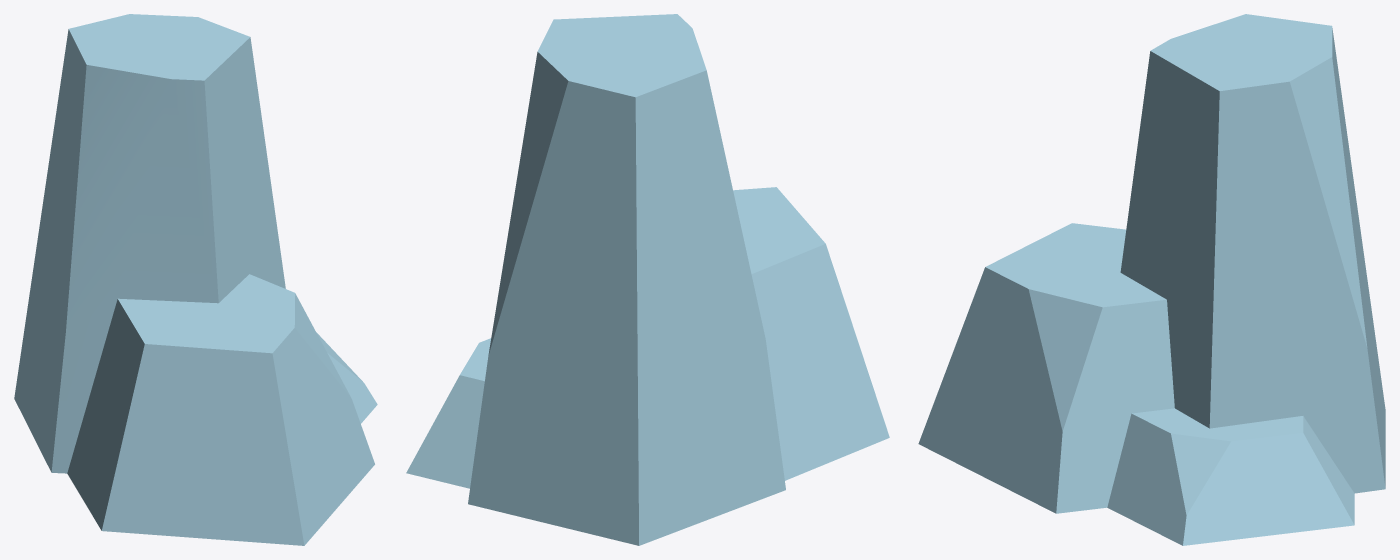
File: rockSmall.dae
3 renders of one model, left to right at view 1: azimuth 30°, elevation 25°; view 2: azimuth 150°, elevation 25°; view 3: azimuth 270°, elevation 25°, orthographic. The views are drawn at different scales.
Parts seen in each view (by area): view 1: rockSmall; view 2: rockSmall; view 3: rockSmall.
Part boxes in pixels (x1=…): rockSmall: x1=14, y1=14, x2=377, y2=545; rockSmall: x1=406, y1=14, x2=889, y2=545; rockSmall: x1=918, y1=14, x2=1385, y2=545.
Size of the model in its own units: 0.9419 by 1.02 by 1.08.
